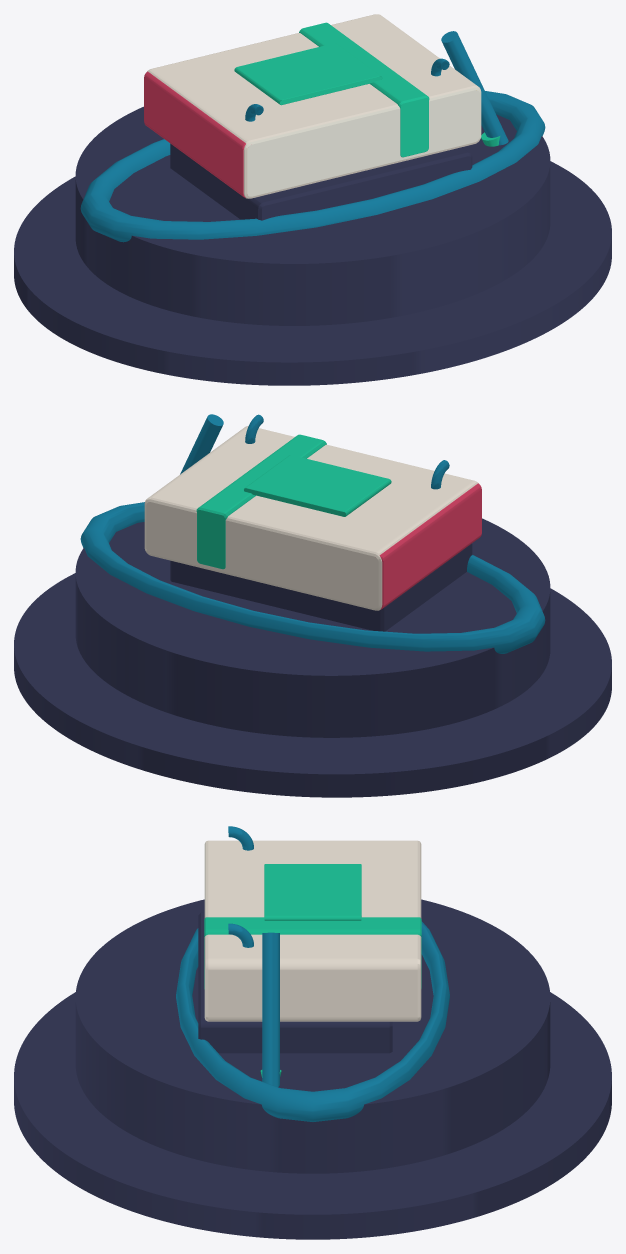
Rendered from 1149_海底两万里_图书室.glb.
3 views of the same model, one above another, from view 1: azimuth 30°, elevation 25°; view 2: azimuth 150°, elevation 25°; view 3: azimuth 270°, elevation 25° (orthographic). The views are drawn at different scales.
Parts seen in each view (by area): view 1: card_1149; view 2: card_1149; view 3: card_1149.
Boxes of the visible parts, x1,y1,x2,y2 form: card_1149: (14, 14, 611, 385); card_1149: (14, 414, 611, 797); card_1149: (14, 826, 611, 1239).
Size of the model in its own units: 2.55 by 1 by 2.33.
